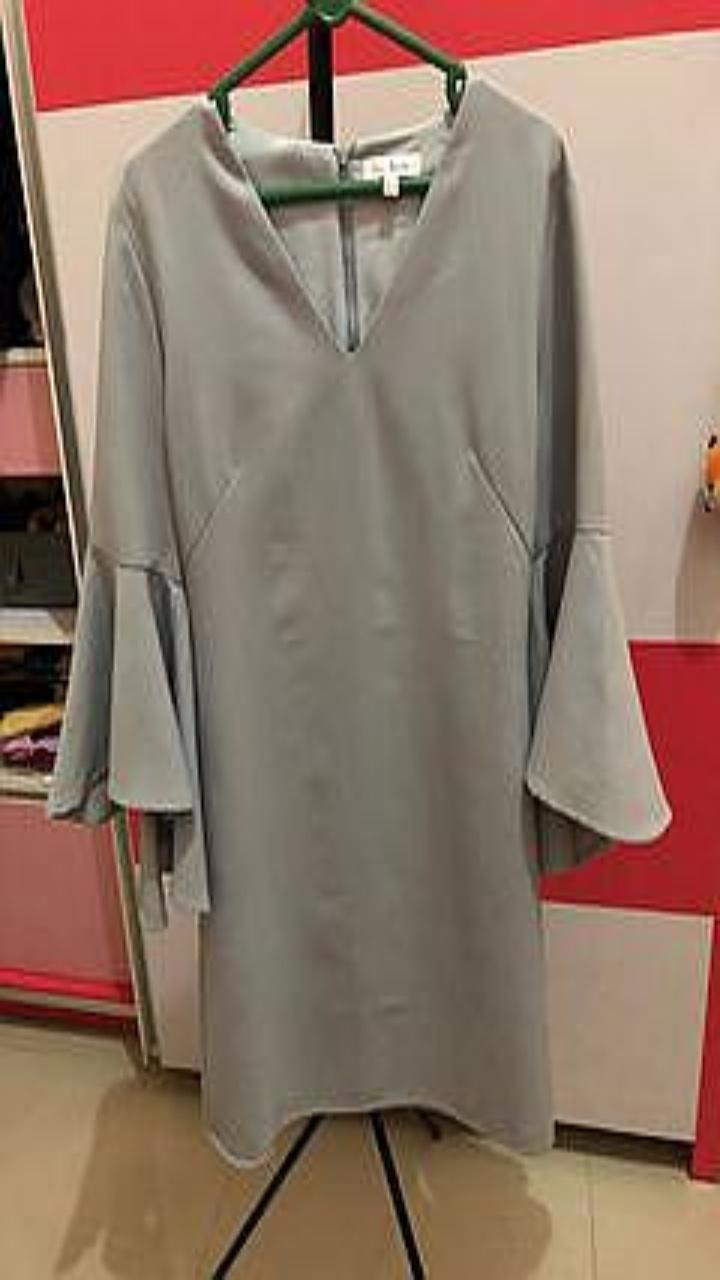Dresses: (47, 78, 669, 1162)
